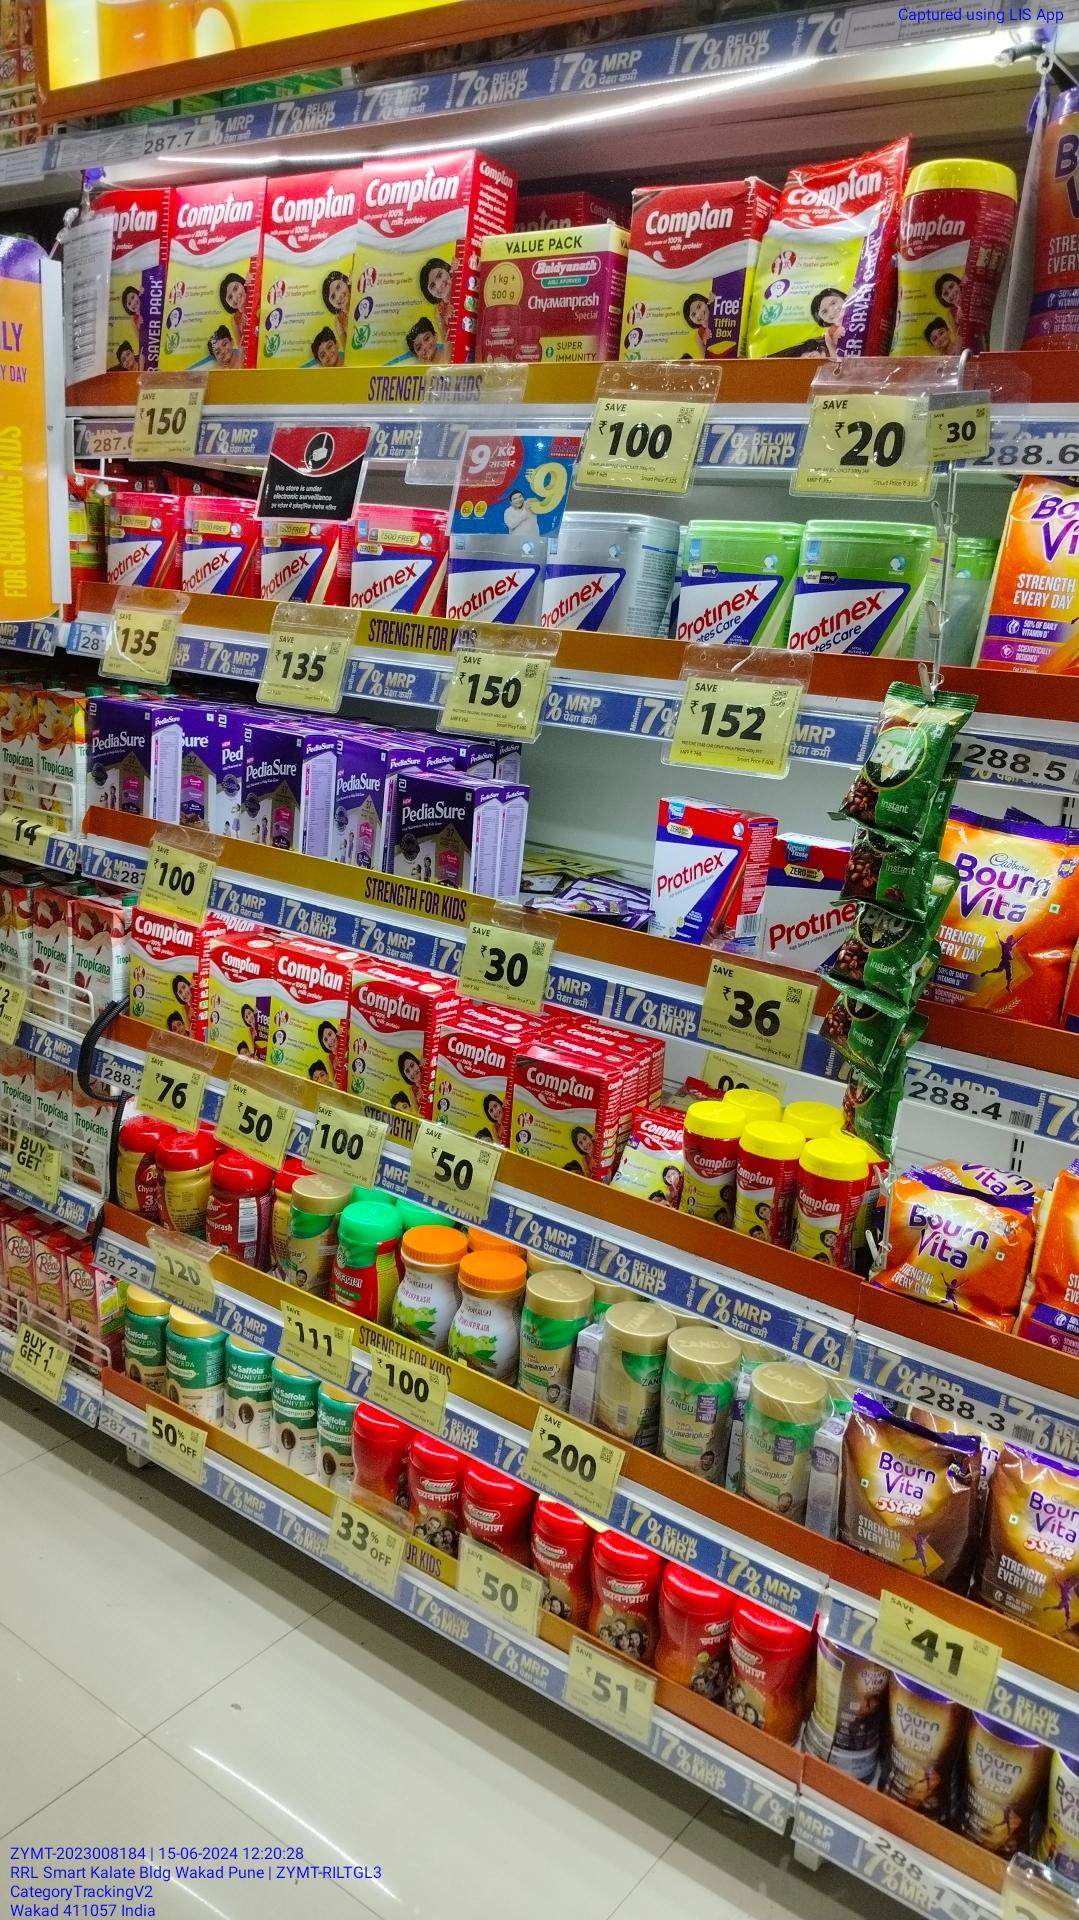COMPLAN_CHOCOLATE_200_GMS_JAR: (798, 1146, 856, 1270), (735, 1127, 790, 1249), (683, 1105, 728, 1220)
COMPLAN_CHOCOLATE_200_GMS_PACK: (516, 1055, 603, 1168)
COMPLAN_CHOCOLATE_500_GMS_PACK: (625, 194, 736, 356), (129, 911, 195, 1034)
COMPLAN_KESAR_BADAM_200_GMS_PACK: (439, 1025, 509, 1146)
COMPLAN_KESAR_BADAM_500_GMS_PACK: (207, 938, 265, 1058)
COMPLAN_PISTA_BADAM_500_GMS_PACK: (354, 972, 430, 1114)
COMPLAN_RC_POUCH_700_GMS_12: (752, 148, 879, 356)
PROTINEX_CHOCOLATE_400_G_JAR: (181, 496, 251, 596), (107, 492, 177, 589)
PROTINEX_ORIGINAL_400_G_JAR: (546, 525, 640, 633), (448, 535, 541, 624)
PROTINEX_VANILLA_400_G_JAR: (351, 518, 442, 615), (261, 520, 344, 603)
